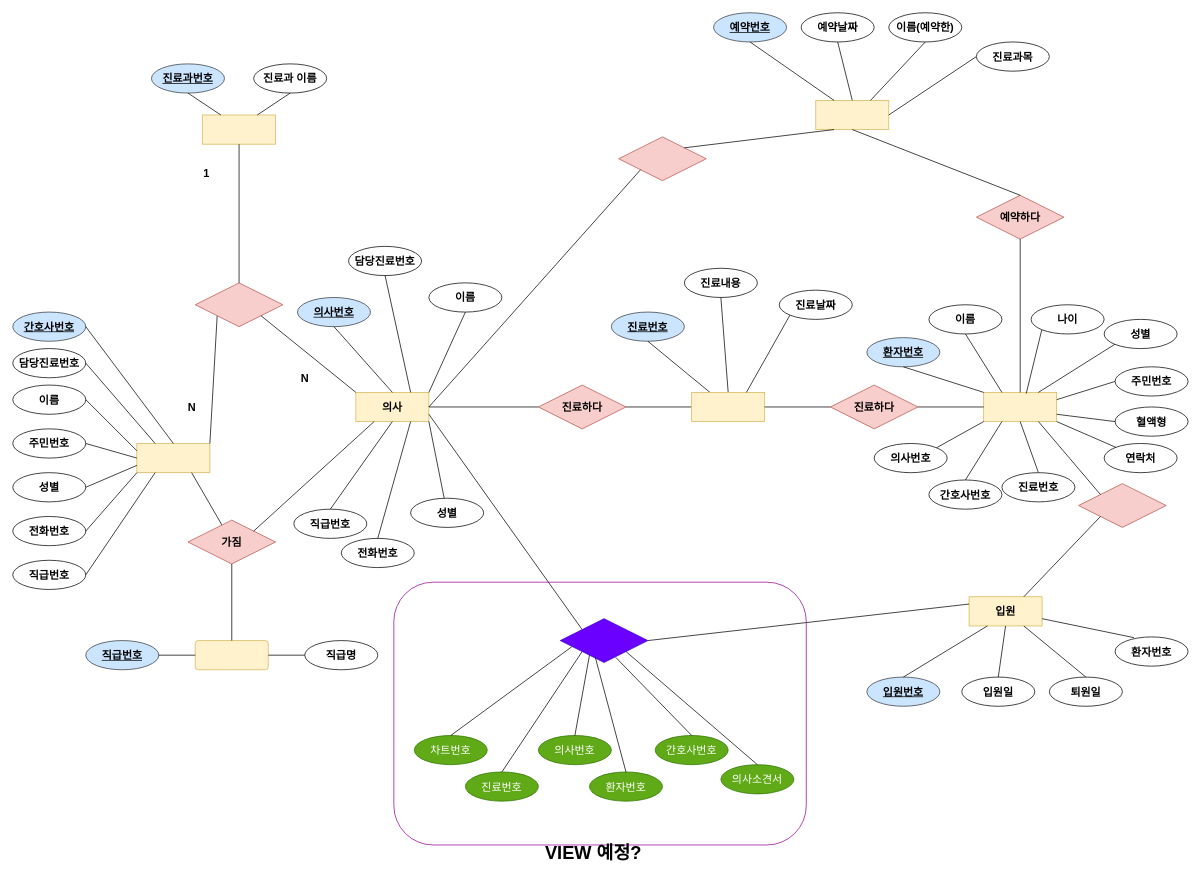
This 1201x880 diagram has some shape labels left out. The centre of each missing label's shape, as x and y in pixels:
"간호사" belongs at (173,458).
"관리하다" belongs at (1122,505).
"소속" belongs at (239,304).
"예약" belongs at (852,115).
"직급" belongs at (231,655).
"진료" belongs at (728,407).
"진료과" belongs at (239,129).
"차트" belongs at (604,640).
"확인" belongs at (662,158).
"환자" belongs at (1020,407).
